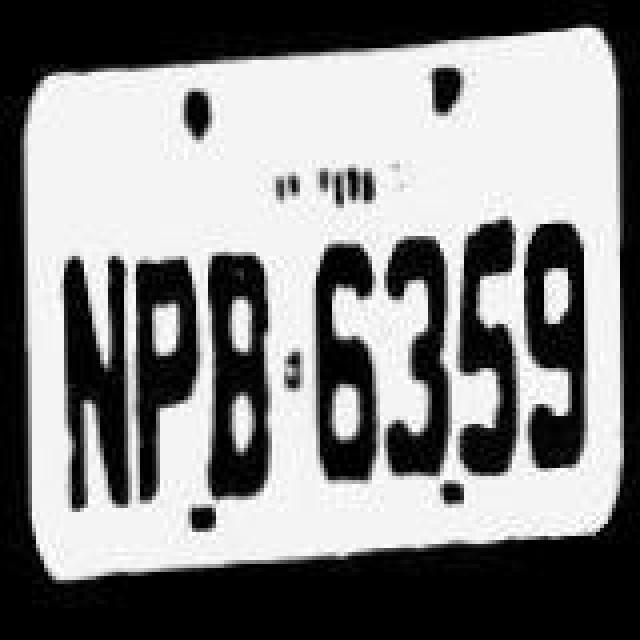3: (372, 228, 452, 480)
5: (448, 218, 520, 482)
6: (304, 226, 376, 490)
9: (518, 204, 594, 476)
B: (196, 244, 276, 504)
N: (52, 236, 132, 516)
P: (126, 238, 202, 506)
